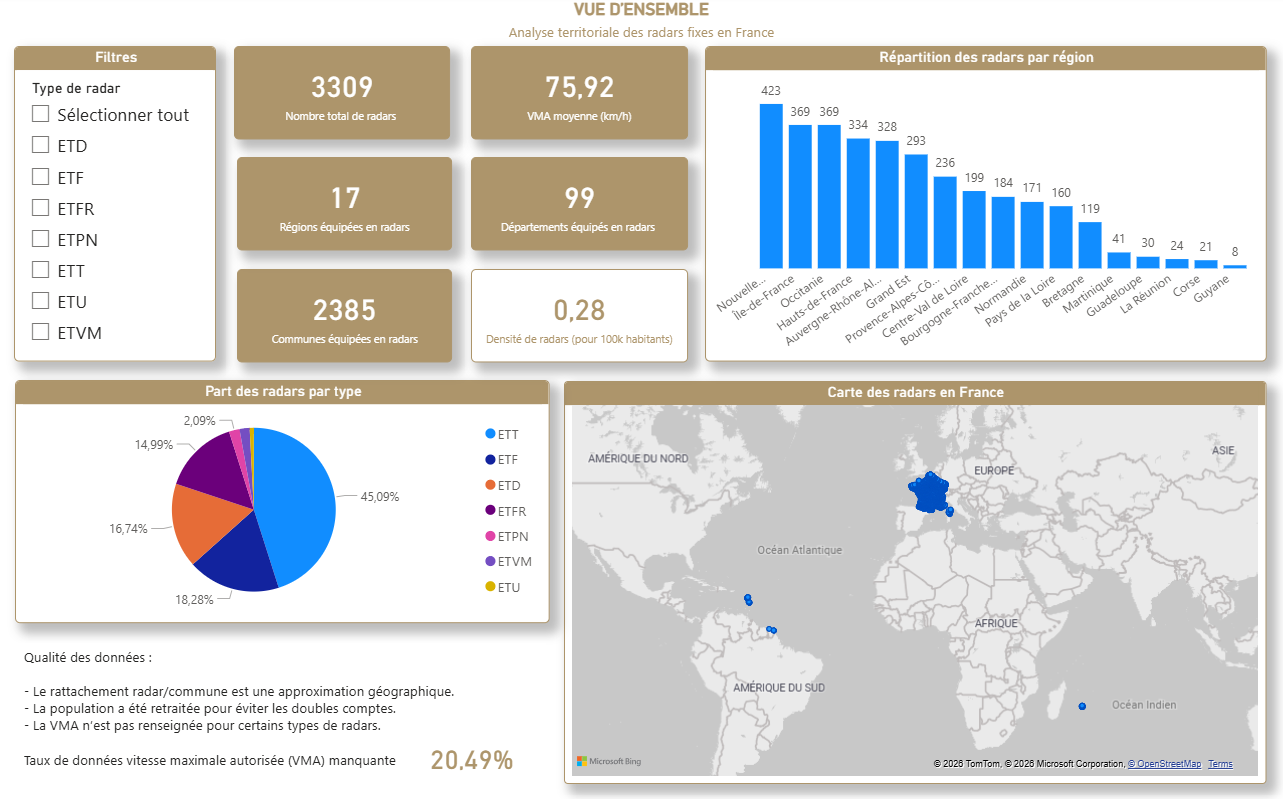

What the dashboard file says about the page in this screenshot:
{"tool":"powerbi","page":{"name":"Vue d'ensemble","canvas":[1283,800],"ordinal":0},"visuals":[{"type":"card","title":"Nombre total de radars fixes","fields":{"Values":["vue_radars_detaillee.Nombre de radars"]},"box":[235.7,50,215,93],"z":0},{"type":"shape","title":"VUE D’ENSEMBLE ","box":[0,3,1282.6,52.7],"z":1000},{"type":"map","title":"Carte des radars en France","fields":{"Y":["vue_radars_detaillee.latitude"],"X":["vue_radars_detaillee.longitude"]},"box":[564.3,382.9,698.6,401.4],"z":2000},{"type":"columnChart","title":"Répartition des radars par région","fields":{"Category":["vue_radars_detaillee.nom_region"],"Y":["vue_radars_detaillee.Nombre de radars"]},"box":[704.3,50,558.6,314.3],"z":3000},{"type":"shape","title":"Filtres","box":[17.1,50,201.4,314.3],"z":5000},{"type":"slicer","fields":{"Values":["vue_radars_detaillee.type_radar"]},"box":[21.4,78.6,191,275.7],"z":6000},{"type":"pieChart","title":"Part des radars par type","fields":{"Category":["vue_radars_detaillee.type_radar"],"Y":["vue_radars_detaillee.Nombre de radars"]},"box":[17.9,382.4,532.3,242.1],"z":7000},{"type":"card","title":"Nombre total de radars fixes","fields":{"Values":["vue_radars_detaillee.VMA moyenne"]},"box":[471.4,50,215.7,93],"z":8000},{"type":"card","title":"Nombre total de radars fixes","fields":{"Values":["vue_radars_detaillee.Nombre de communes"]},"box":[238.6,271.4,214.3,92.9],"z":9000},{"type":"card","title":"Nombre total de radars fixes","fields":{"Values":["vue_radars_detaillee.Nombre de départements"]},"box":[471.4,160,215.7,92.9],"z":10000},{"type":"card","title":"Nombre total de radars fixes","fields":{"Values":["vue_radars_detaillee.Nombre de régions"]},"box":[238.6,160,214.3,92.9],"z":11000},{"type":"card","title":"Nombre total de radars fixes","fields":{"Values":["vue_radars_detaillee.Radars pour 100 000 habitants (vue d'ensemble stable)"]},"box":[471.4,271.4,215.7,92.9],"z":12000},{"type":"textbox","box":[22,643.7,524,136.2],"z":13000},{"type":"card","fields":{"Values":["vue_radars_detaillee.Taux de VMA manquante (%)"]},"box":[398.9,741.4,147.2,34.4],"z":13500}]}

Visuals, with their boxes in screenshot pixels (x1, y1, x2, y2), scaled from the page's 1283x800 canvas onto the 1283x799 screenshot:
"Nombre total de radars fixes" card: rect(236, 50, 451, 143)
"VUE D’ENSEMBLE " shape: rect(0, 3, 1282, 56)
"Carte des radars en France" map: rect(564, 382, 1263, 783)
"Répartition des radars par région" columnChart: rect(704, 50, 1263, 364)
"Filtres" shape: rect(17, 50, 218, 364)
slicer - vue_radars_detaillee.type_radar: rect(21, 79, 212, 354)
"Part des radars par type" pieChart: rect(18, 382, 550, 624)
"Nombre total de radars fixes" card: rect(471, 50, 687, 143)
"Nombre total de radars fixes" card: rect(239, 271, 453, 364)
"Nombre total de radars fixes" card: rect(471, 160, 687, 253)
"Nombre total de radars fixes" card: rect(239, 160, 453, 253)
"Nombre total de radars fixes" card: rect(471, 271, 687, 364)
textbox: rect(22, 643, 546, 779)
card - vue_radars_detaillee.Taux de VMA manquante (%): rect(399, 740, 546, 775)
